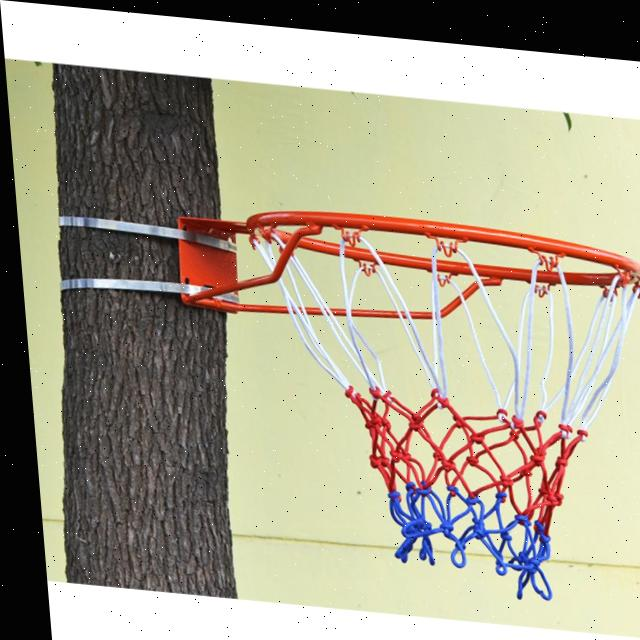basketball: (246, 203, 640, 615)
